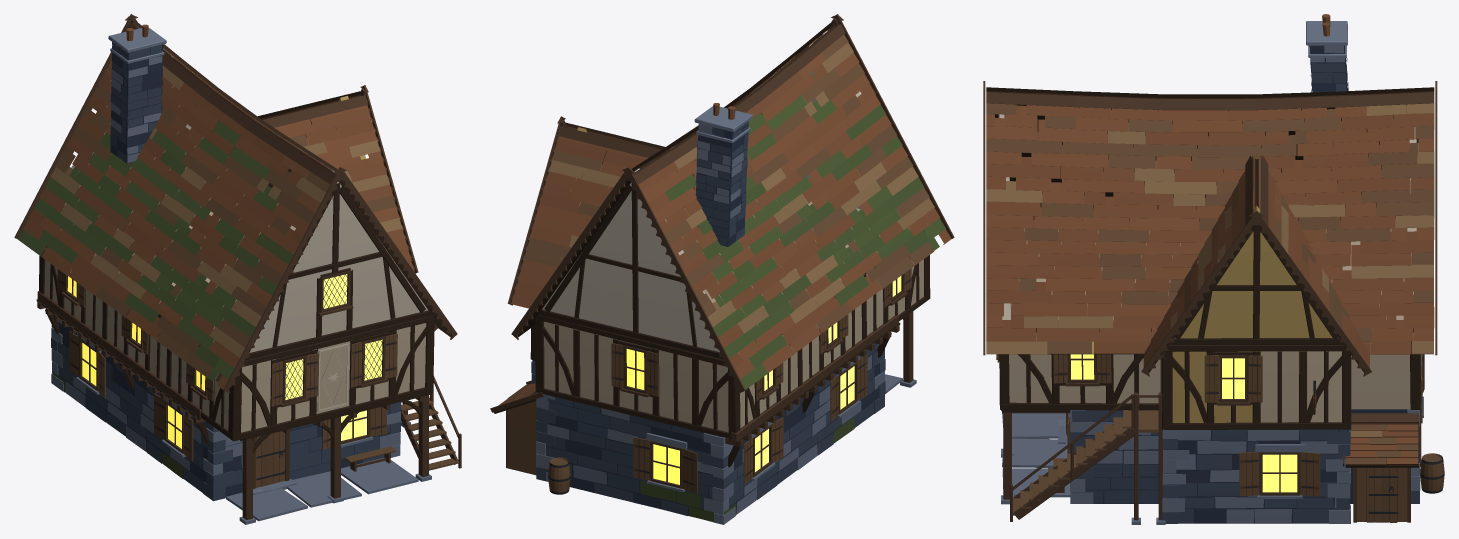
Rendered from house_03_b.glb.
The picture shows the model from 3 angles, left to right: view 1: azimuth 30°, elevation 25°; view 2: azimuth 150°, elevation 25°; view 3: azimuth 270°, elevation 25°; orthographic projection. The views are drawn at different scales.
Parts seen in each view (by area): view 1: isl_house_03_b; view 2: isl_house_03_b; view 3: isl_house_03_b.
Part boxes in pixels (left/top/right/bottom): isl_house_03_b: left=14, top=14, right=461, bottom=524; isl_house_03_b: left=490, top=14, right=954, bottom=524; isl_house_03_b: left=983, top=14, right=1444, bottom=524.
Bounding box in the file's own units: 8.78 × 11.67 × 11.95.
